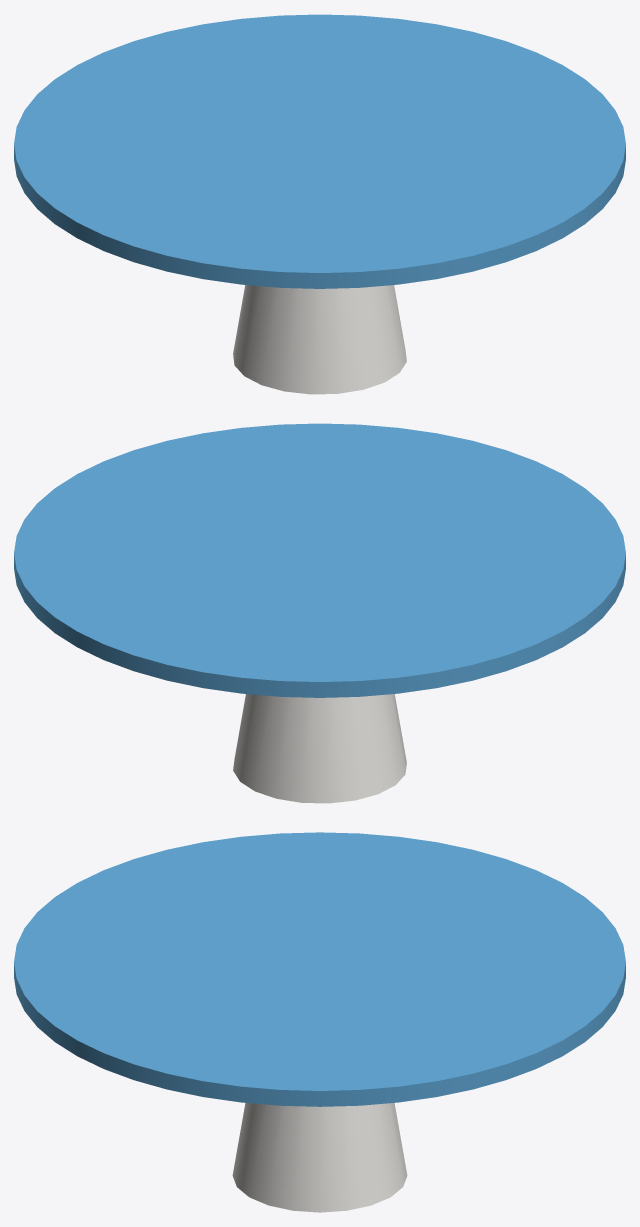
Rendered from Kids_Table.glb.
The picture shows the model from 3 angles, top to bottom: view 1: azimuth 30°, elevation 25°; view 2: azimuth 150°, elevation 25°; view 3: azimuth 270°, elevation 25°; orthographic projection.
Parts seen in each view (by area): view 1: Kids_Table_Blue, Kids_Table_White; view 2: Kids_Table_Blue, Kids_Table_White; view 3: Kids_Table_Blue, Kids_Table_White.
Part boxes in pixels (x1,y1,x2,y2): Kids_Table_Blue: (14, 14, 625, 288); Kids_Table_White: (233, 285, 406, 394); Kids_Table_Blue: (14, 423, 625, 697); Kids_Table_White: (233, 694, 406, 803); Kids_Table_Blue: (14, 832, 625, 1106); Kids_Table_White: (232, 1103, 407, 1212).
Size of the model in its own units: 1.4 by 0.54 by 1.4.
